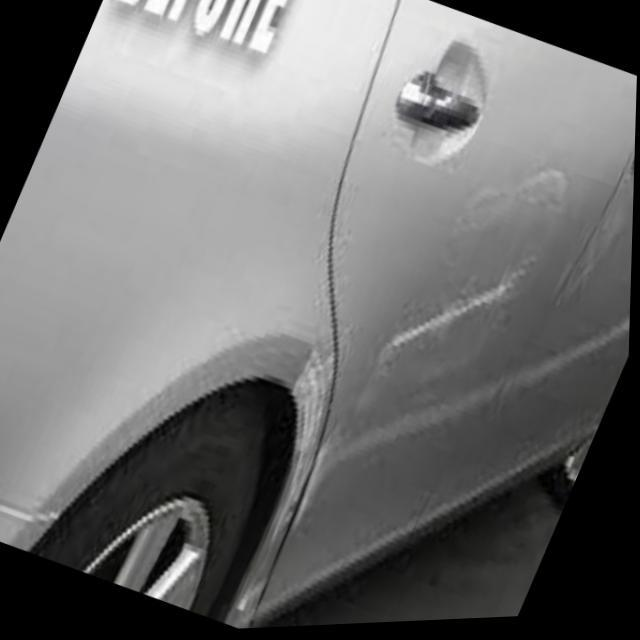scratch: (230, 324, 350, 631), (382, 273, 517, 372)
